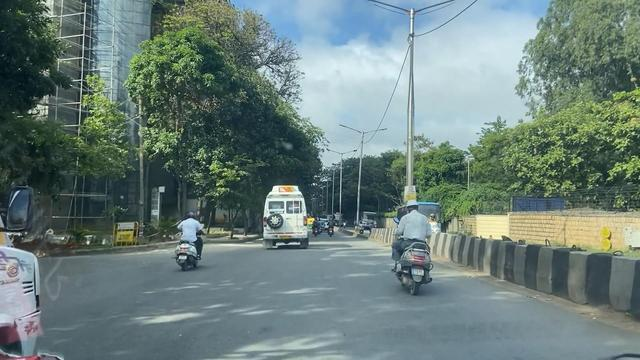HMV: (262, 185, 316, 255)
LMV: (392, 199, 434, 296), (182, 211, 208, 273)
